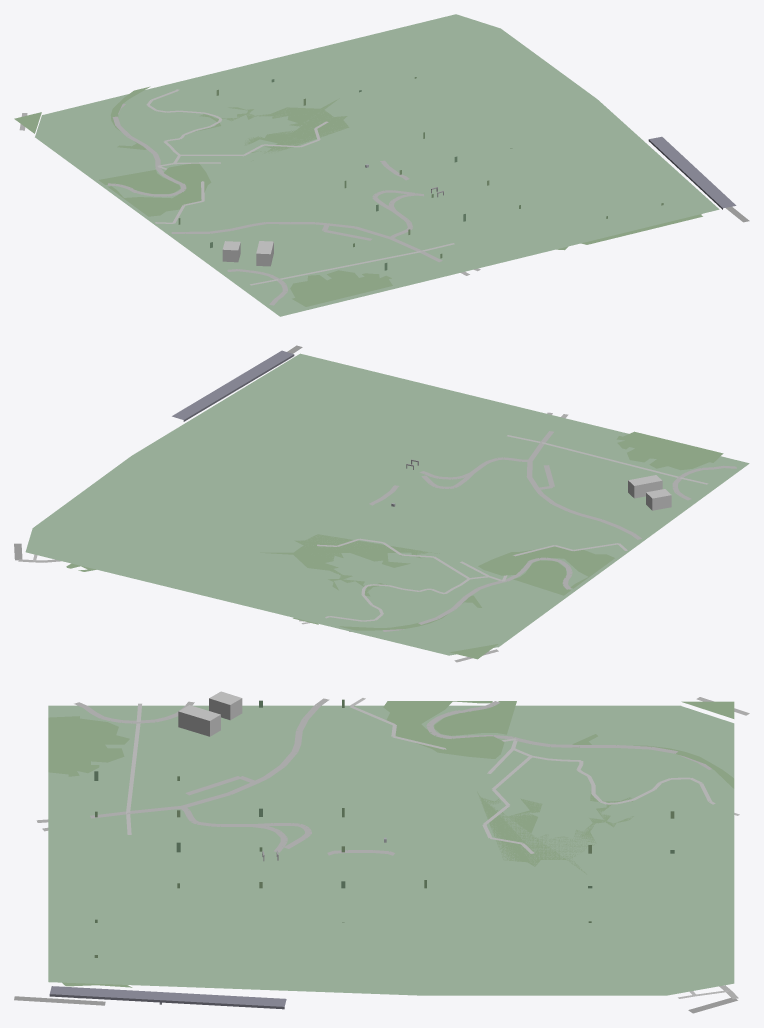
3 renders of one model, top to bottom at view 1: azimuth 30°, elevation 25°; view 2: azimuth 150°, elevation 25°; view 3: azimuth 270°, elevation 25°, orthographic. The views are drawn at different scales.
Size of the model in its own units: 522 by 26.62 by 537.
